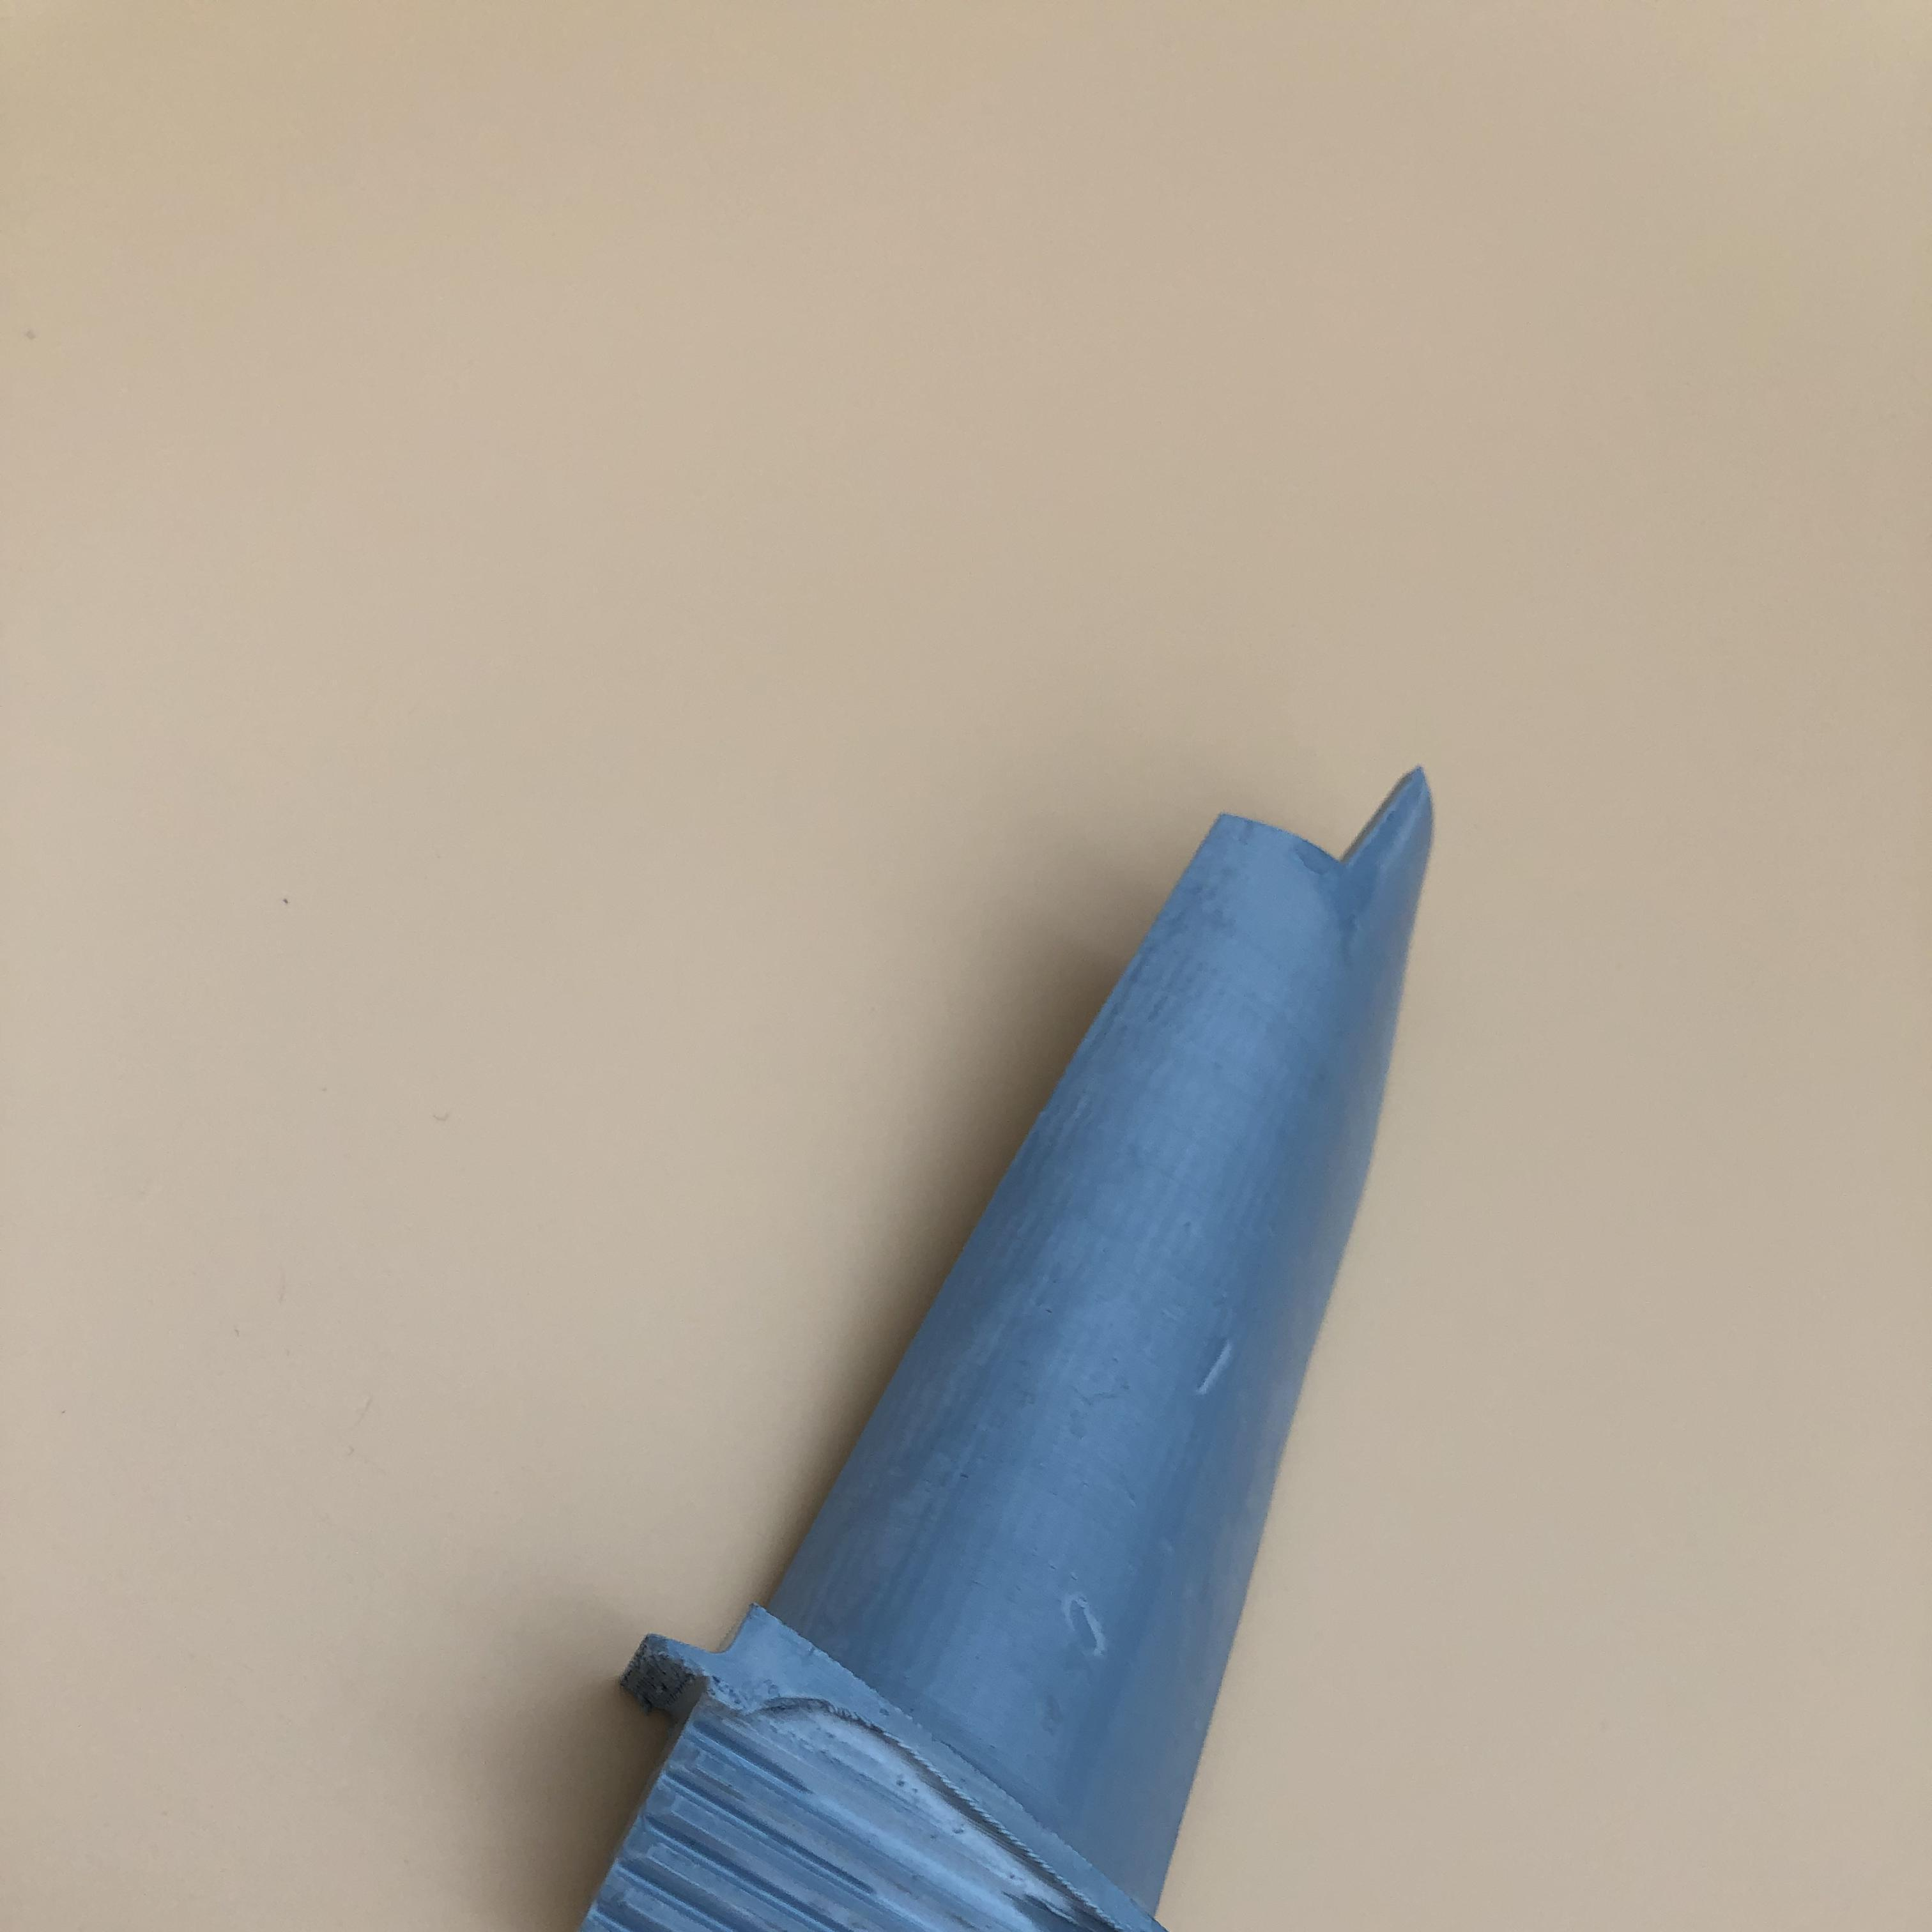fracture: (1235, 777, 1426, 879)
